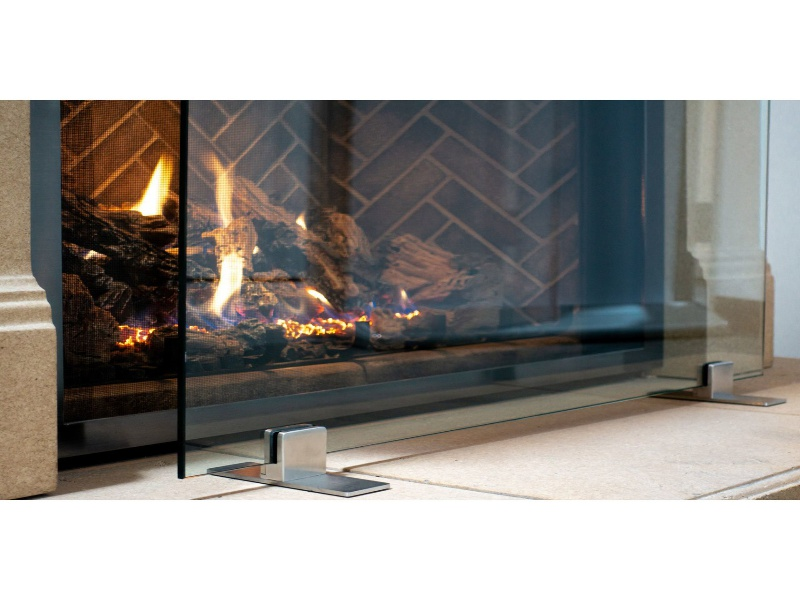fire: (211, 160, 257, 322), (124, 149, 178, 227), (273, 316, 347, 341)
